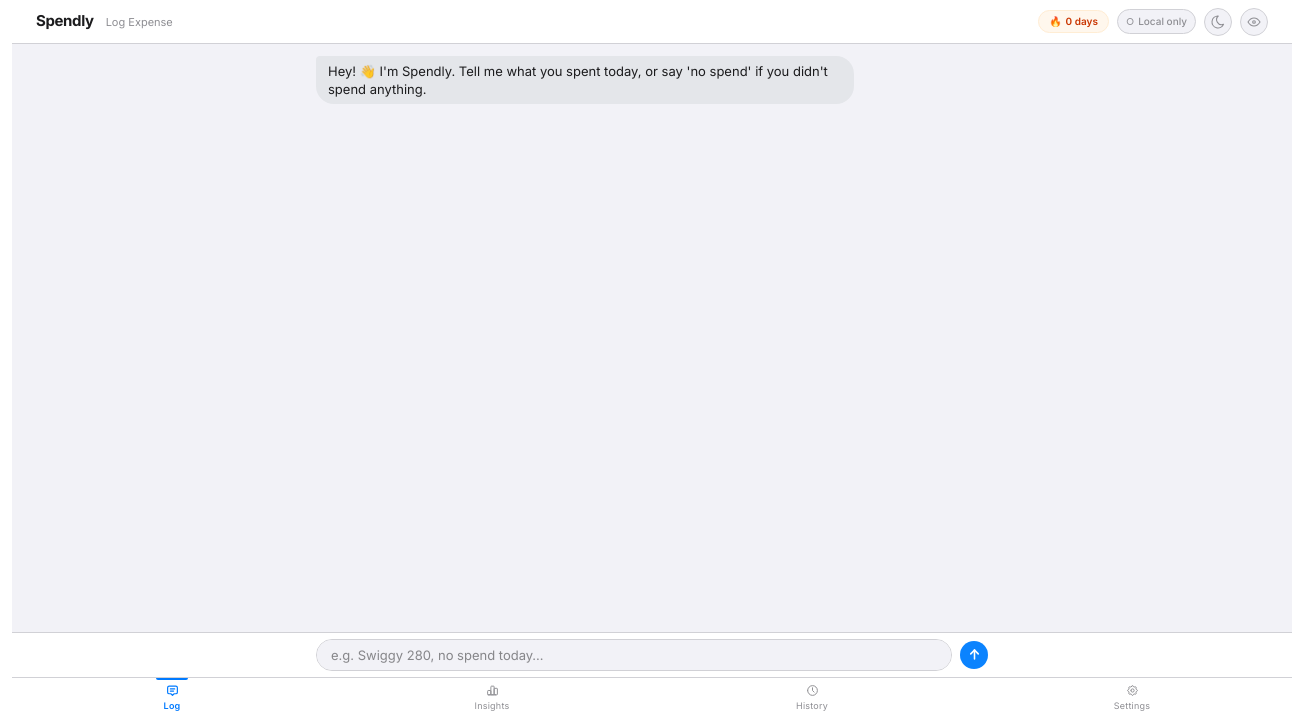
Test: Expense Tracker - History Page Flows › should allow switching between different range controls
What coordinates should you click on to do the following:
click the button "History"
I would click on:
 (812, 700)
Its box is [652,678,972,719].
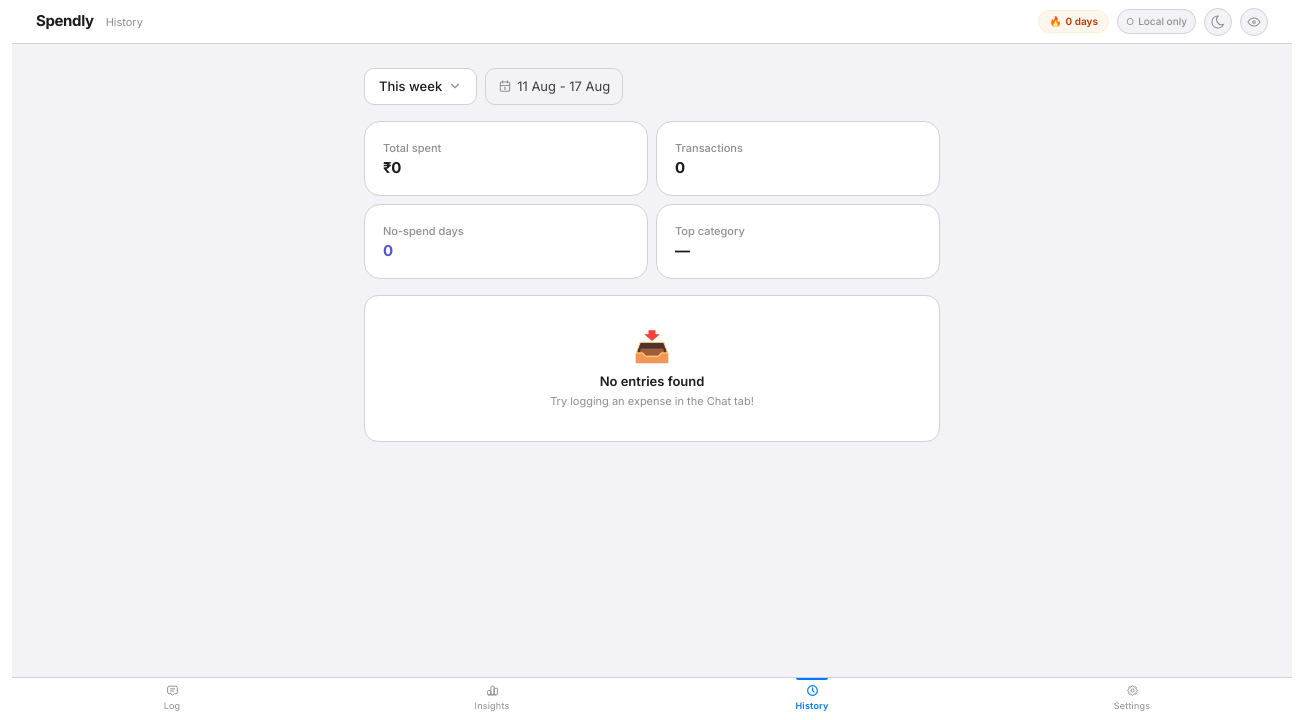
expect the button "This week" is shown: met
# Switch range to "This month"
What coordinates should you click on to do the following:
click the button "This week"
I would click on:
 (421, 87)
Its box is [364,68,477,105].
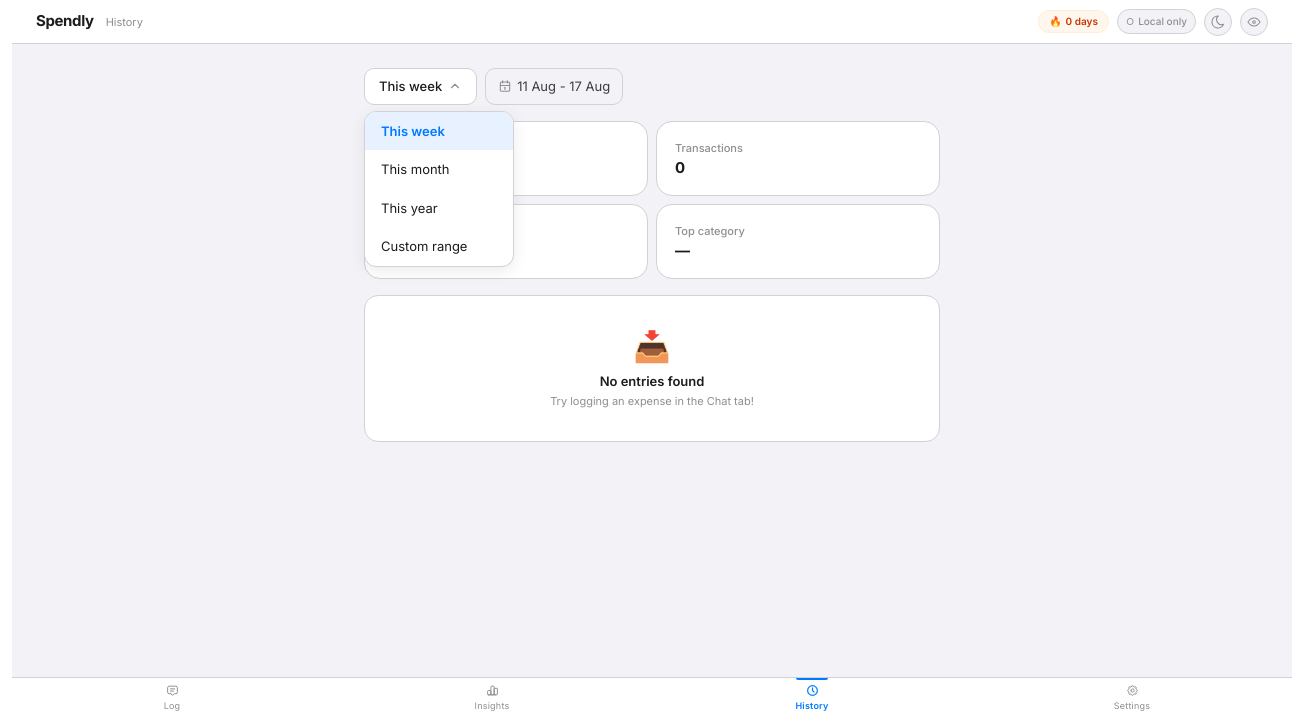
What coordinates should you click on to do the following:
click the button "This month"
I would click on:
 (439, 170)
Its box is [365,150,513,189].
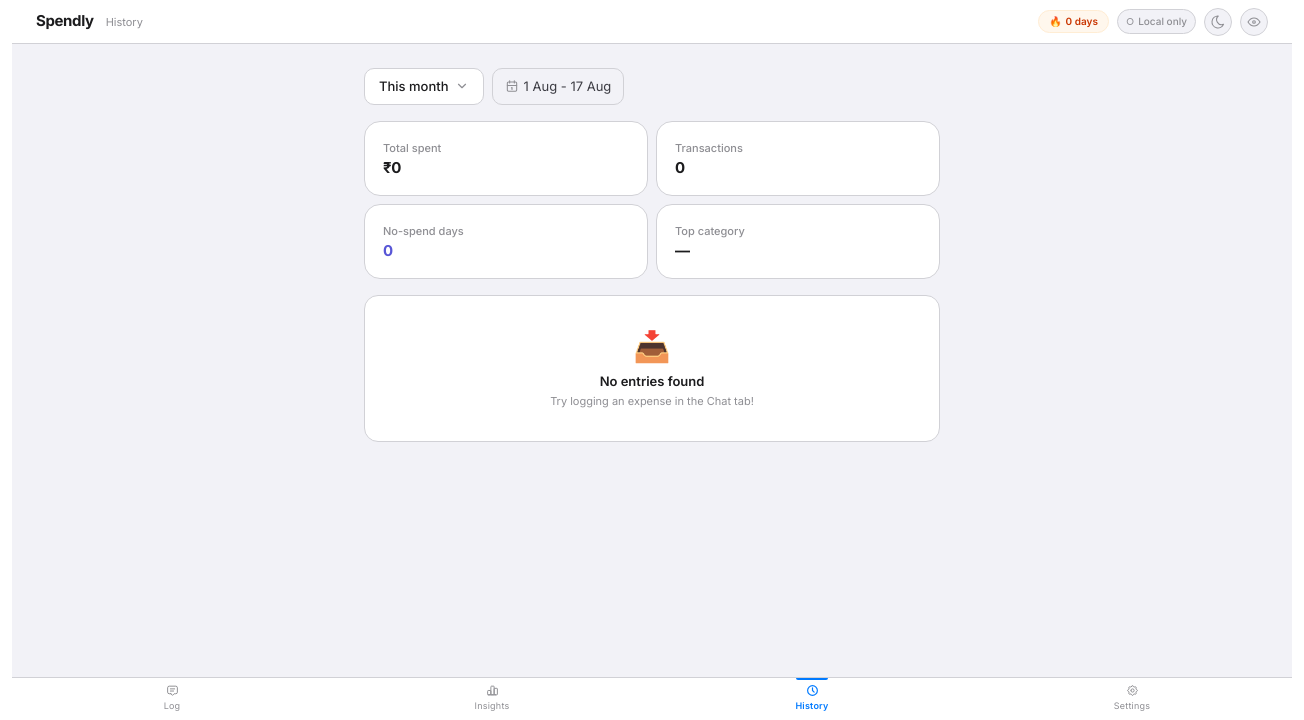
expect the button "This month" is shown: met
# Switch range to "This year"
What coordinates should you click on to do the following:
click the button "This month"
I would click on:
 (424, 87)
Its box is [364,68,484,105].
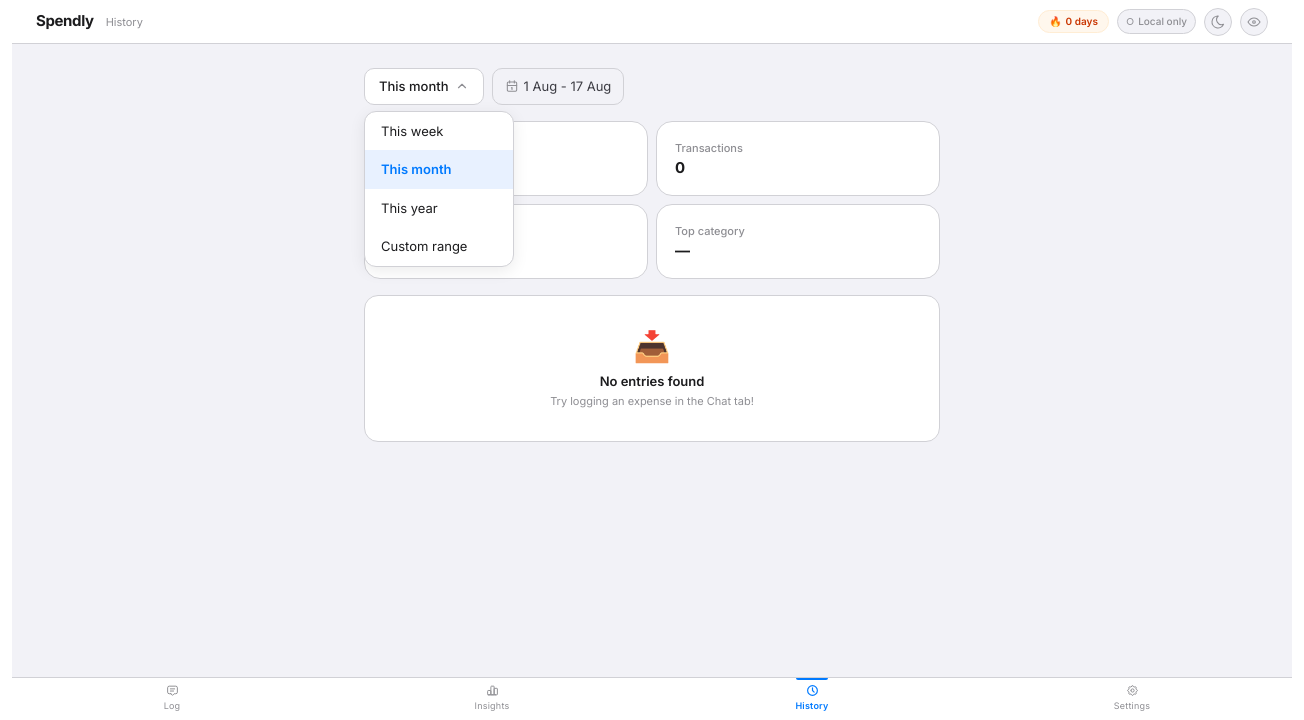
What coordinates should you click on to do the following:
click the button "This year"
I would click on:
 (439, 209)
Its box is [365,189,513,228].
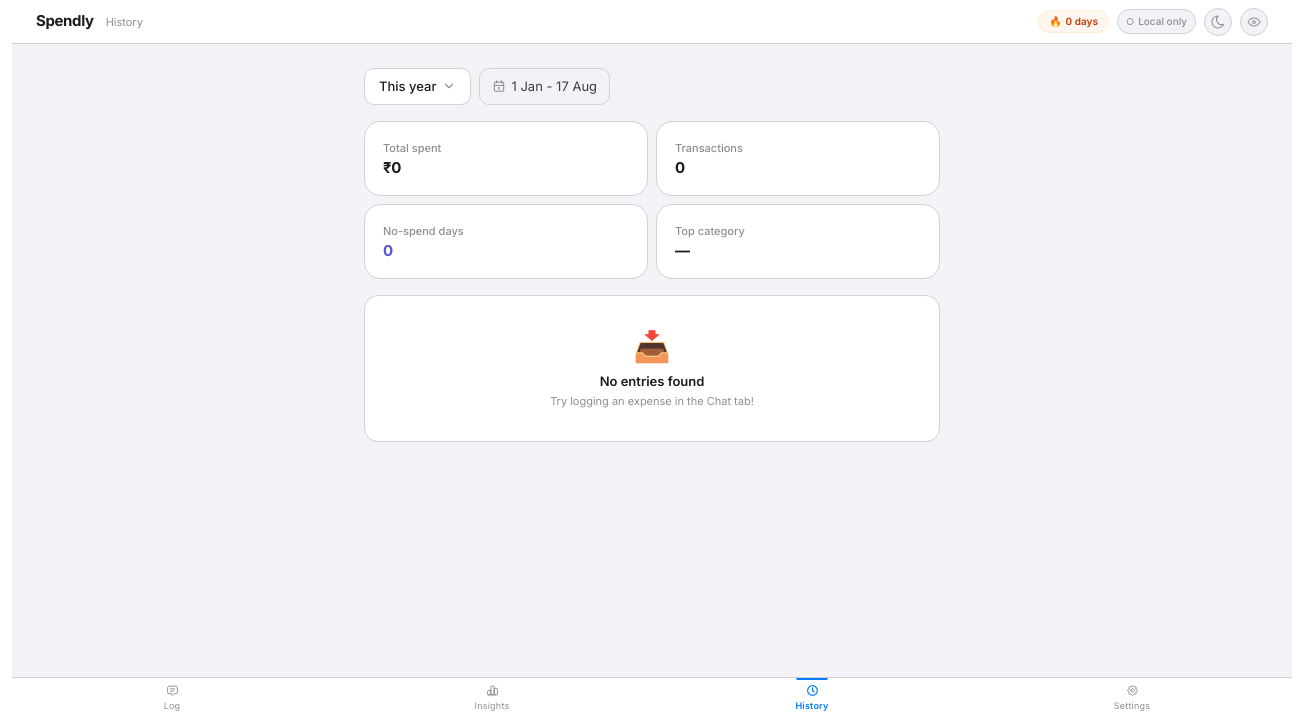
expect the button "This year" is shown: met, box [364,68,472,105]
